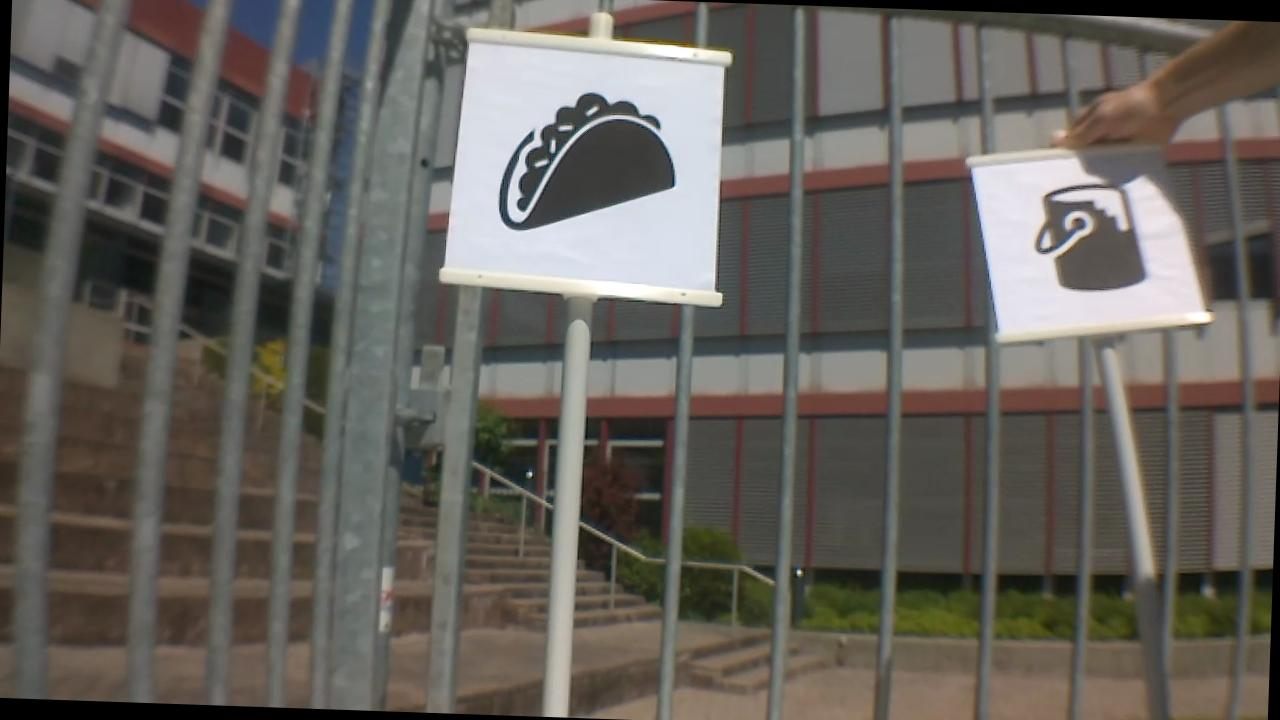bucket: (1028, 178, 1153, 300)
taco: (492, 93, 684, 230)
